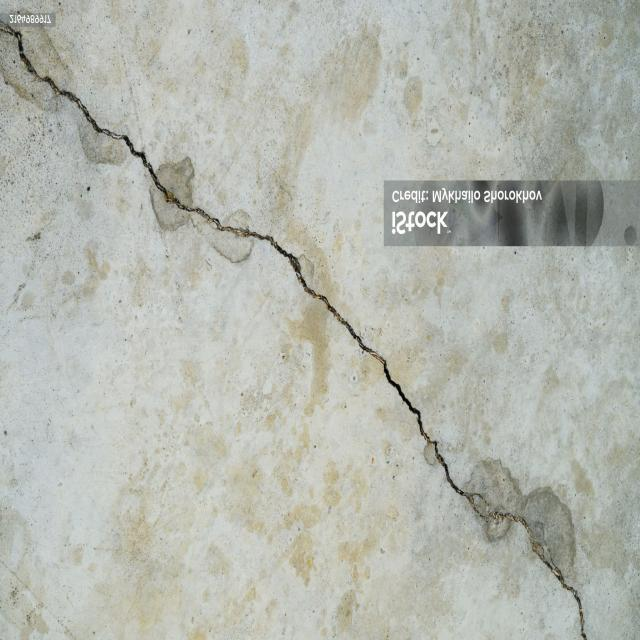crack: (1, 19, 587, 637)
